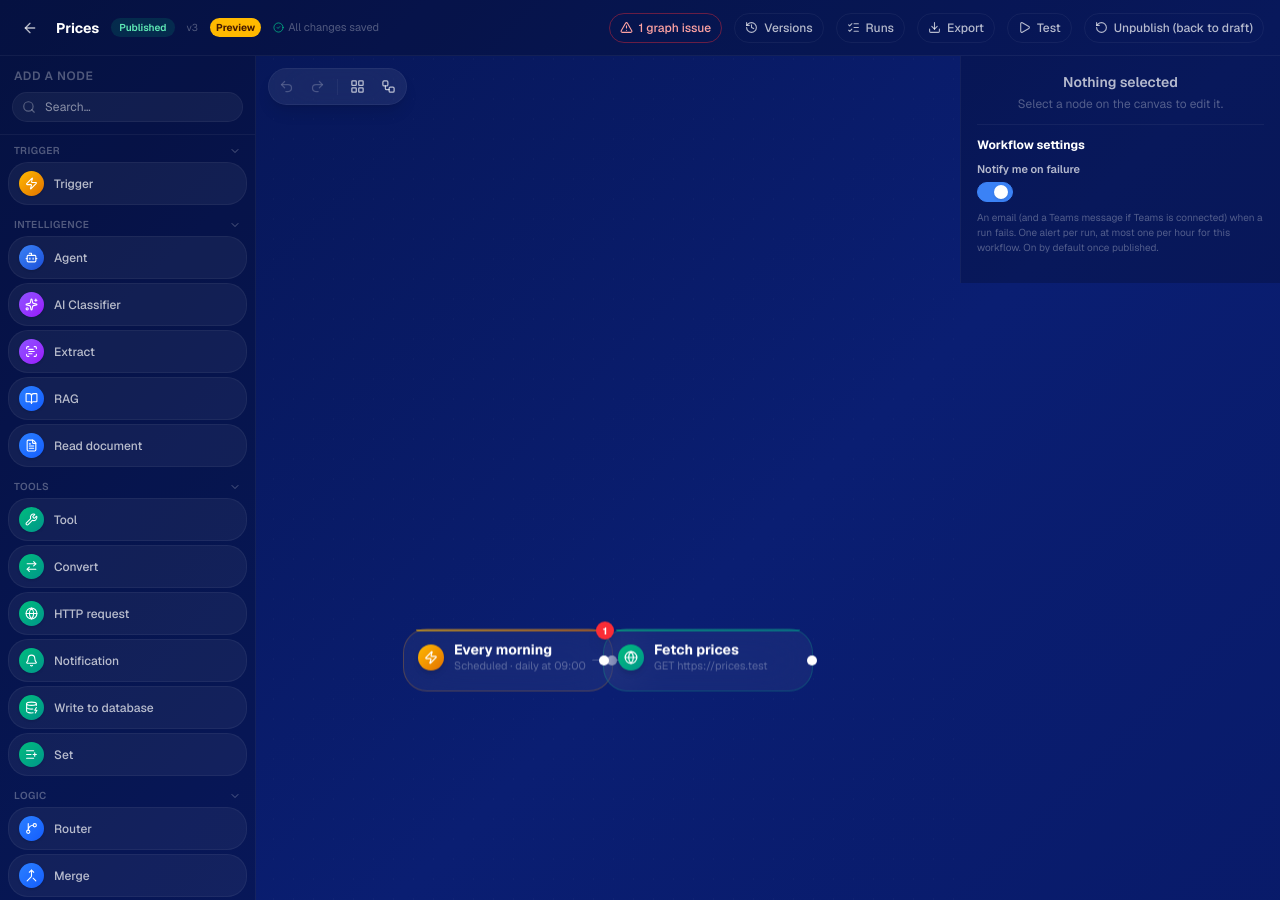
Scenario: Runs in the studio › keeps the drawer and the canvas as they were when a run has no kept steps
The width and height of the screenshot is (1280, 900).
Click the button "Runs" at (870, 28), box top-left (836, 12), bottom-right (905, 42)
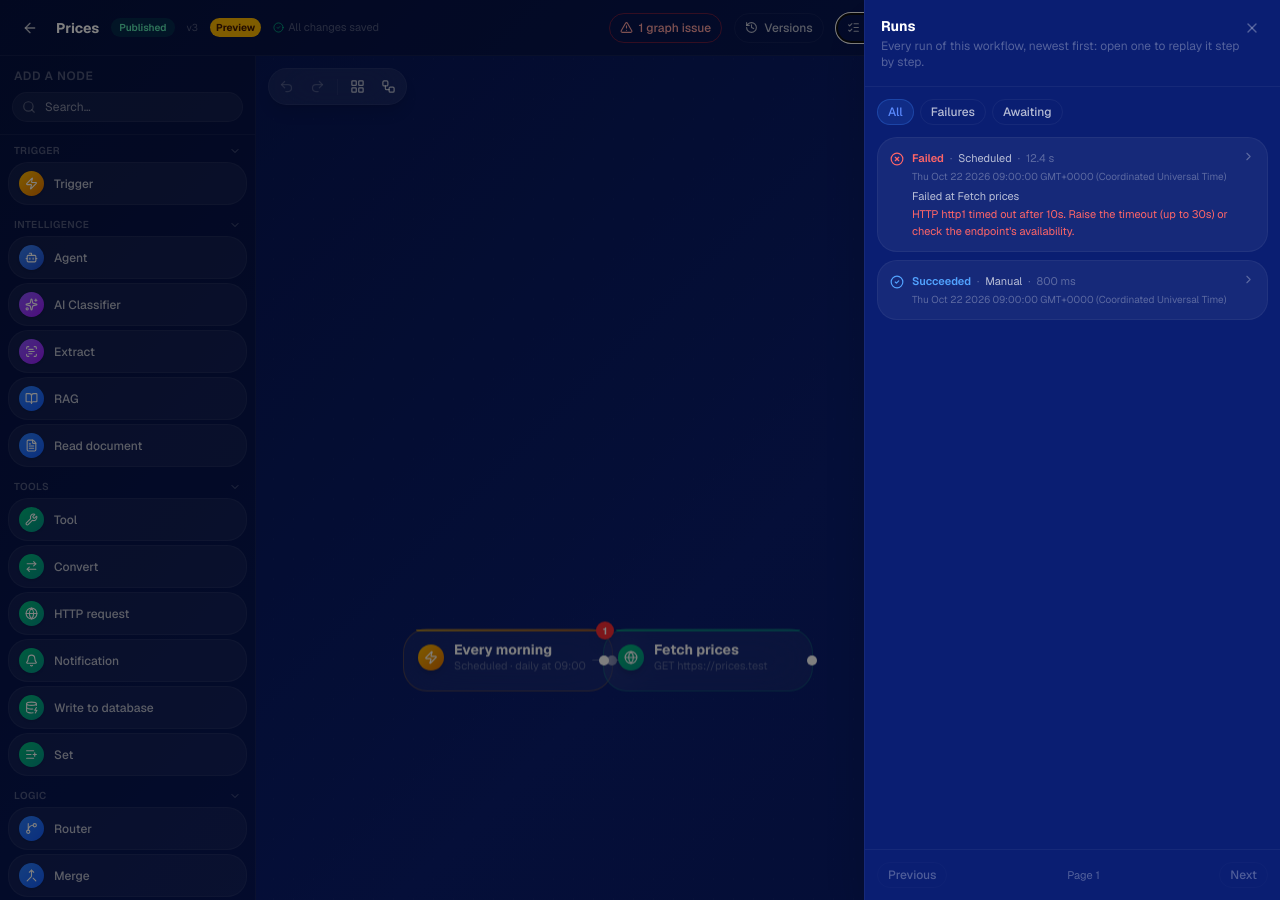
Click the button with aria-label "Open run r2" at (928, 158), box top-left (877, 137), bottom-right (1268, 252)
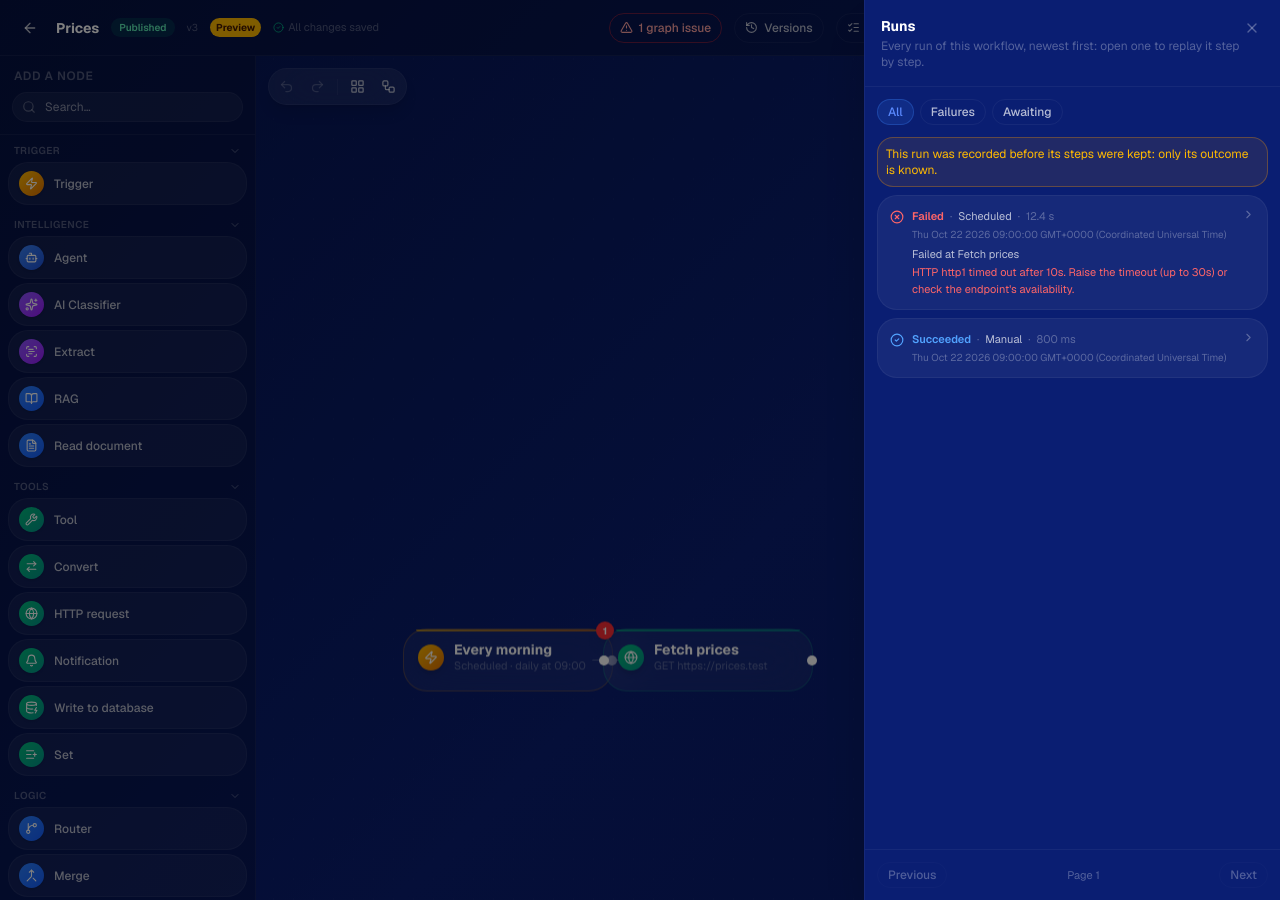
Now the dialog "Runs" is shown
Now the text "This run was recorded before its steps were kept: only its outcome is known." is shown, box top-left (877, 137), bottom-right (1268, 187)
